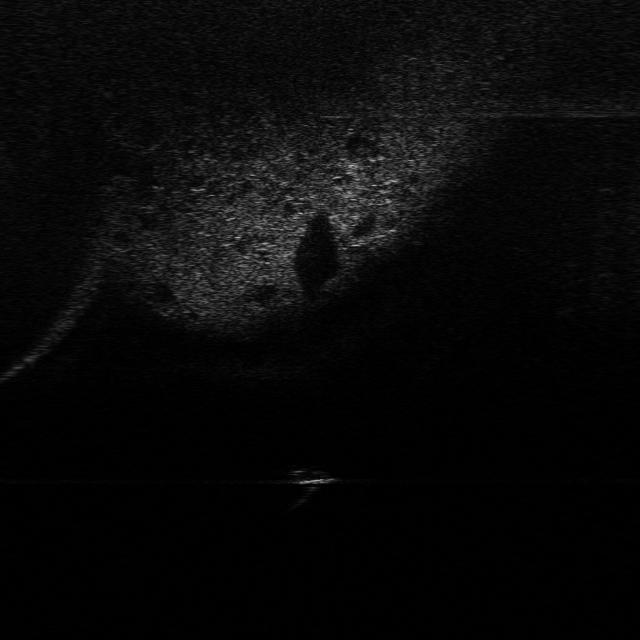cube: (282, 456, 344, 484)
